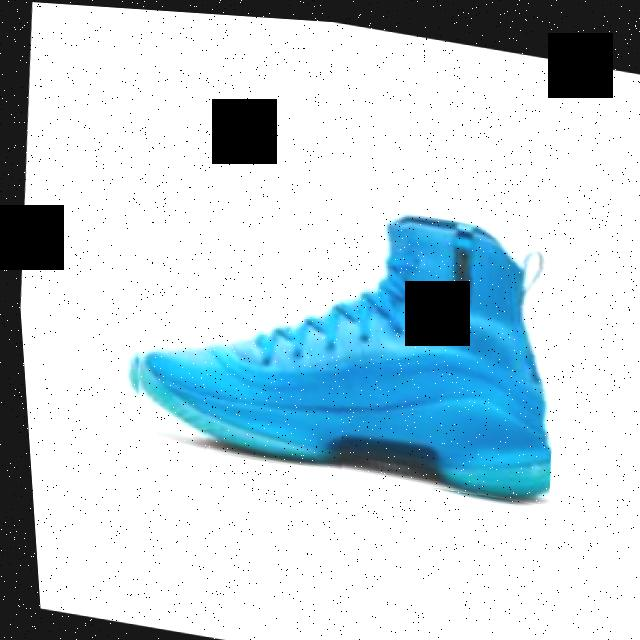shoe: (106, 163, 570, 503)
